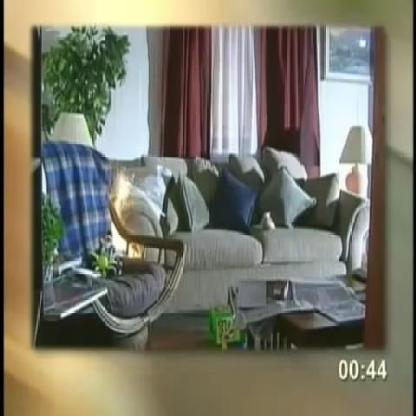fire: (110, 165, 140, 257)
